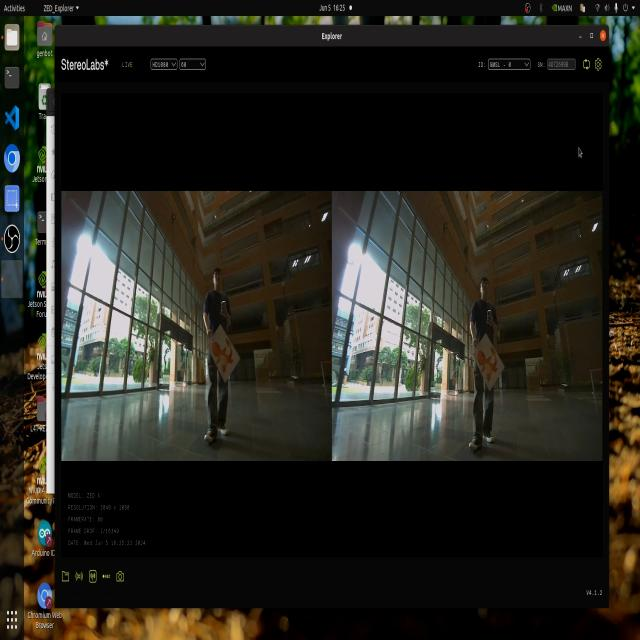red: (478, 349, 508, 394), (209, 326, 237, 372)
